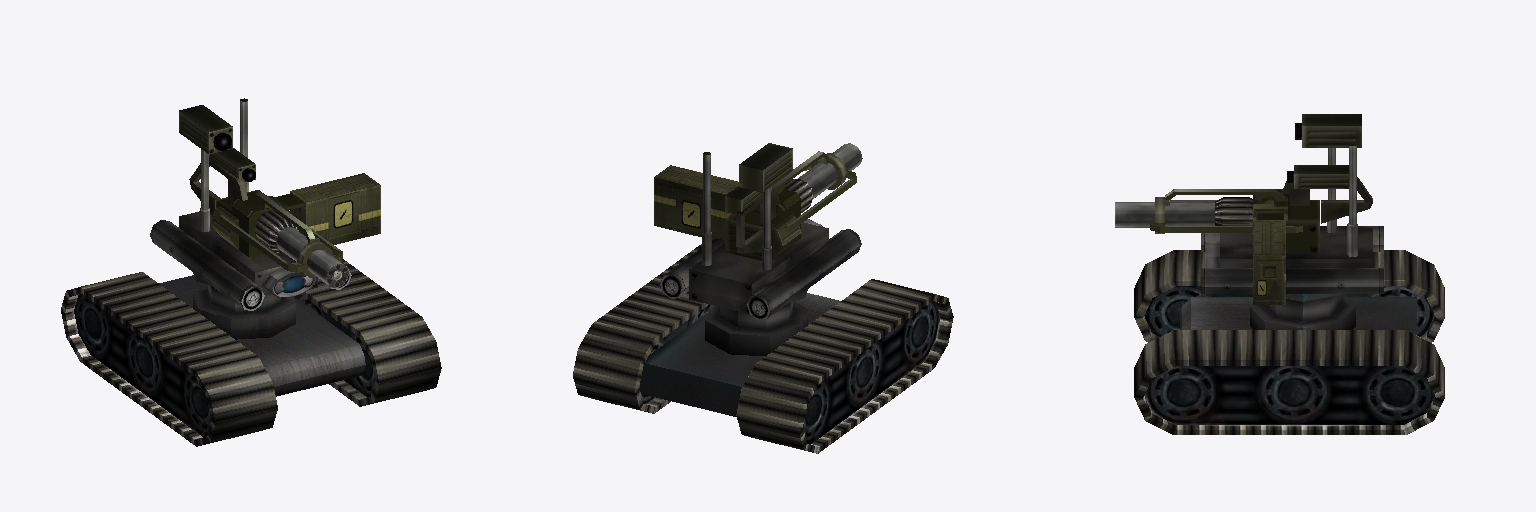
3 renders of one model, left to right at view 1: azimuth 30°, elevation 25°; view 2: azimuth 150°, elevation 25°; view 3: azimuth 270°, elevation 25°, orthographic.
Size of the model in its own units: 185 by 194 by 233.
1 materials, 1 textured.